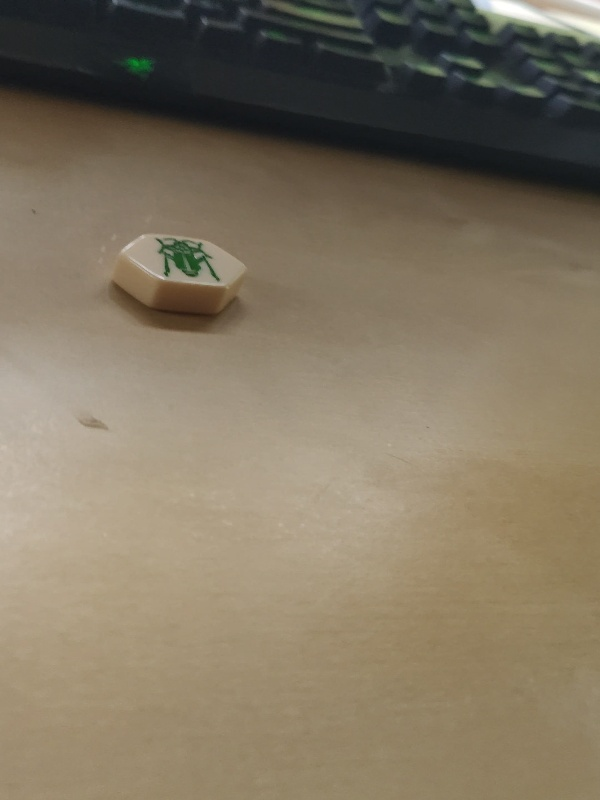white_grasshopper: (115, 231, 250, 317)
